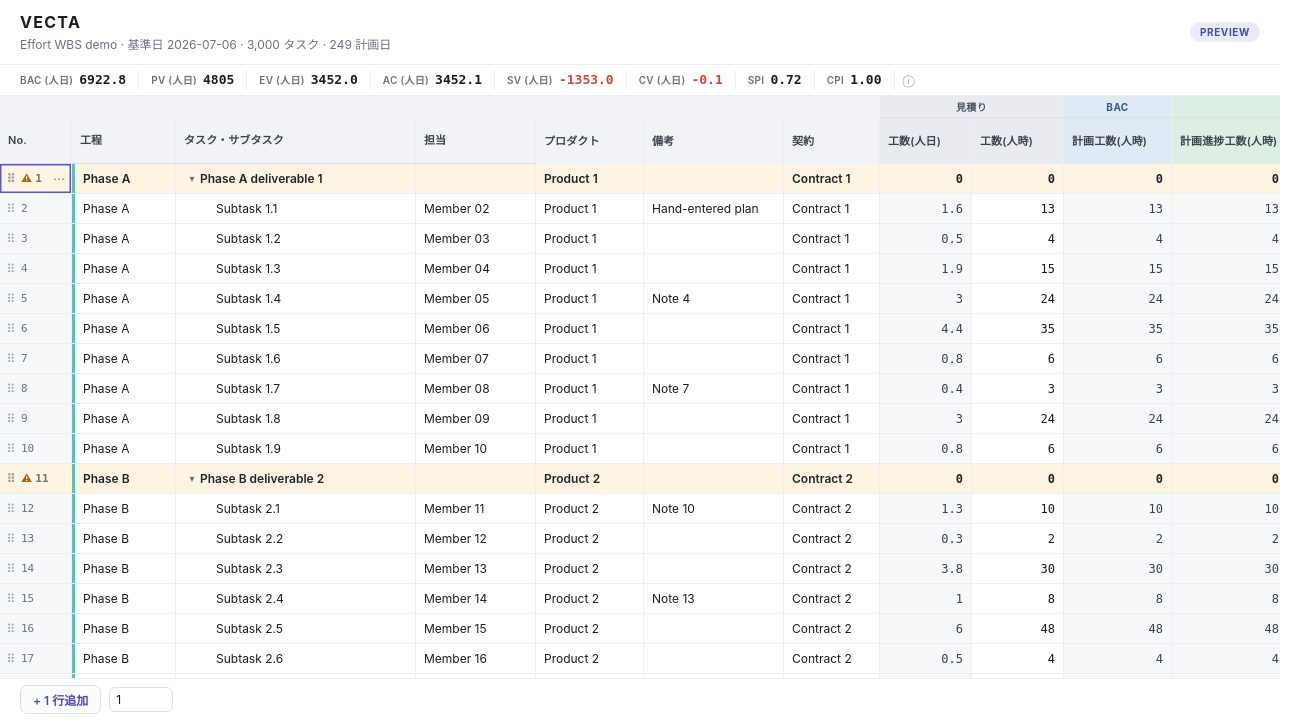
it: App state is never mirrored to localStorage › does not persist a preview edit to localStorage
Expected: the text with test id "save-state" reads "preview", [1200,26,1250,38]
Step 1. Double-click the cell "▾ Phase A deliverable 1" → (296, 178), box [176,164,416,193]
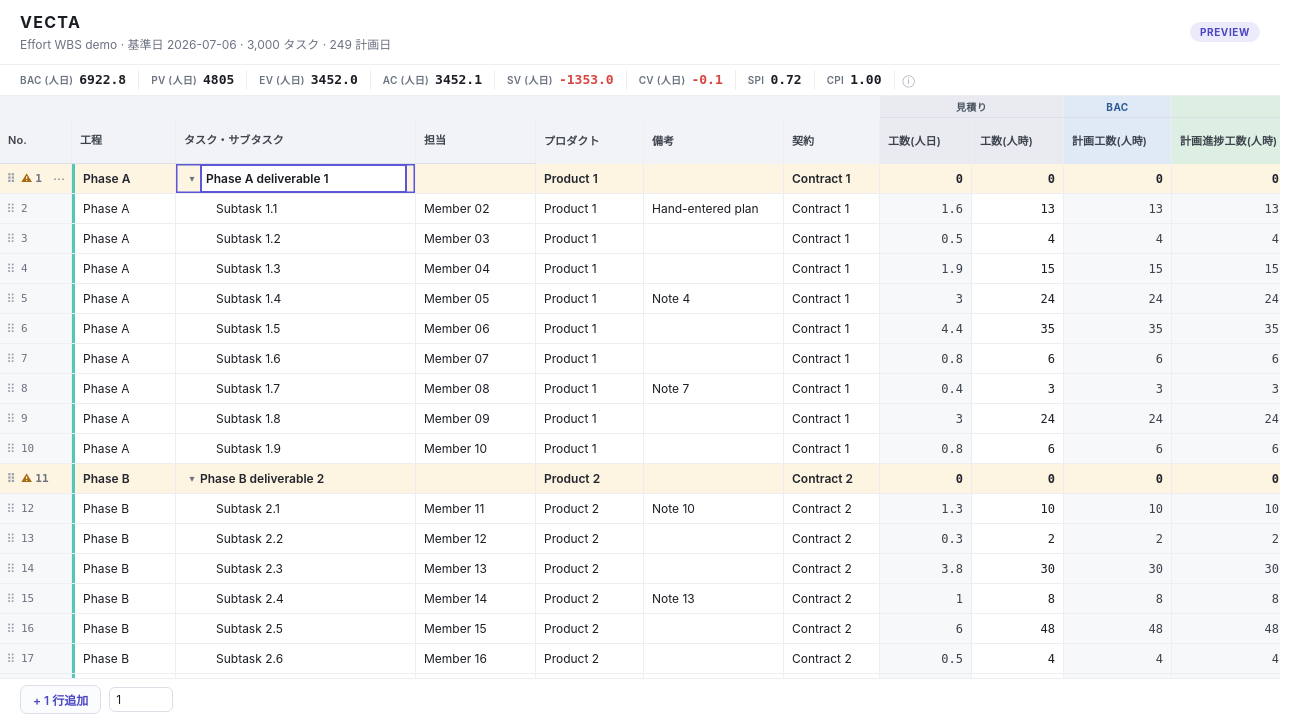
Now the field with class "cell-editor" is shown
Step 2. Replace the text in the field with class "cell-editor" with "Renamed in preview" → (304, 178), box [200,164,407,193]
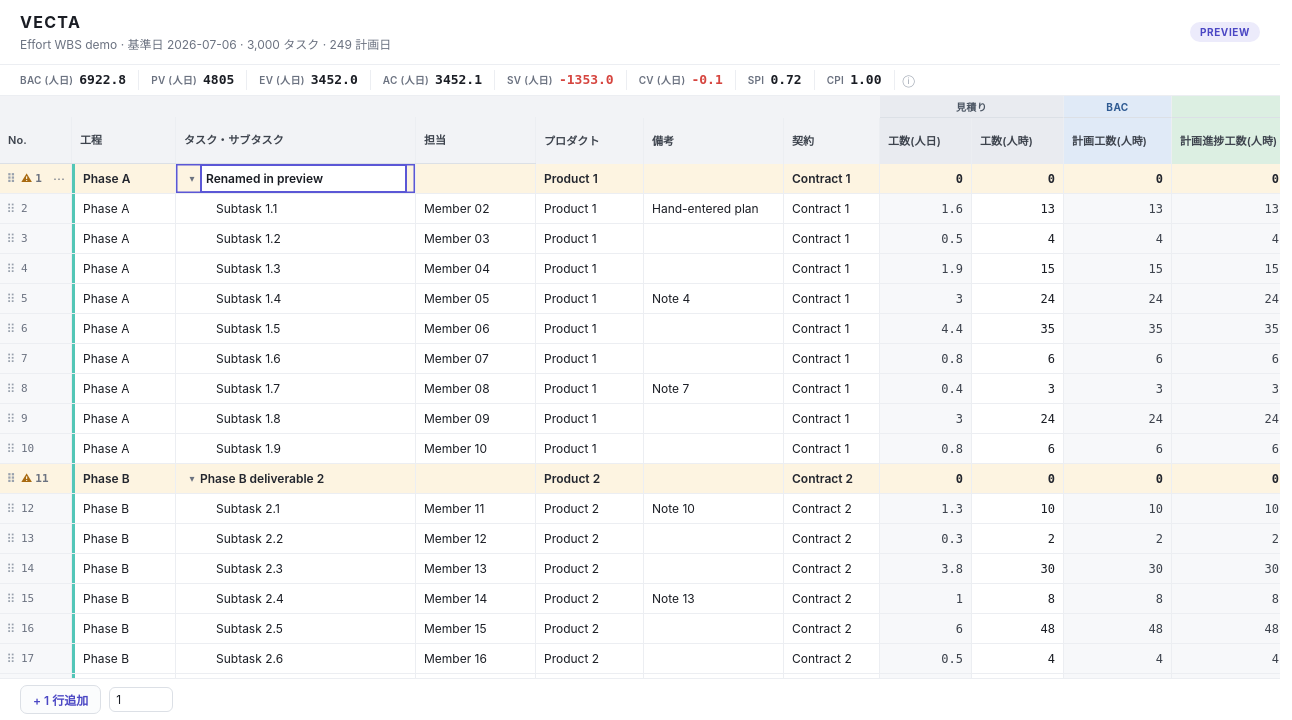
Step 3. Leave the field with class "cell-editor", box [200,164,407,193]
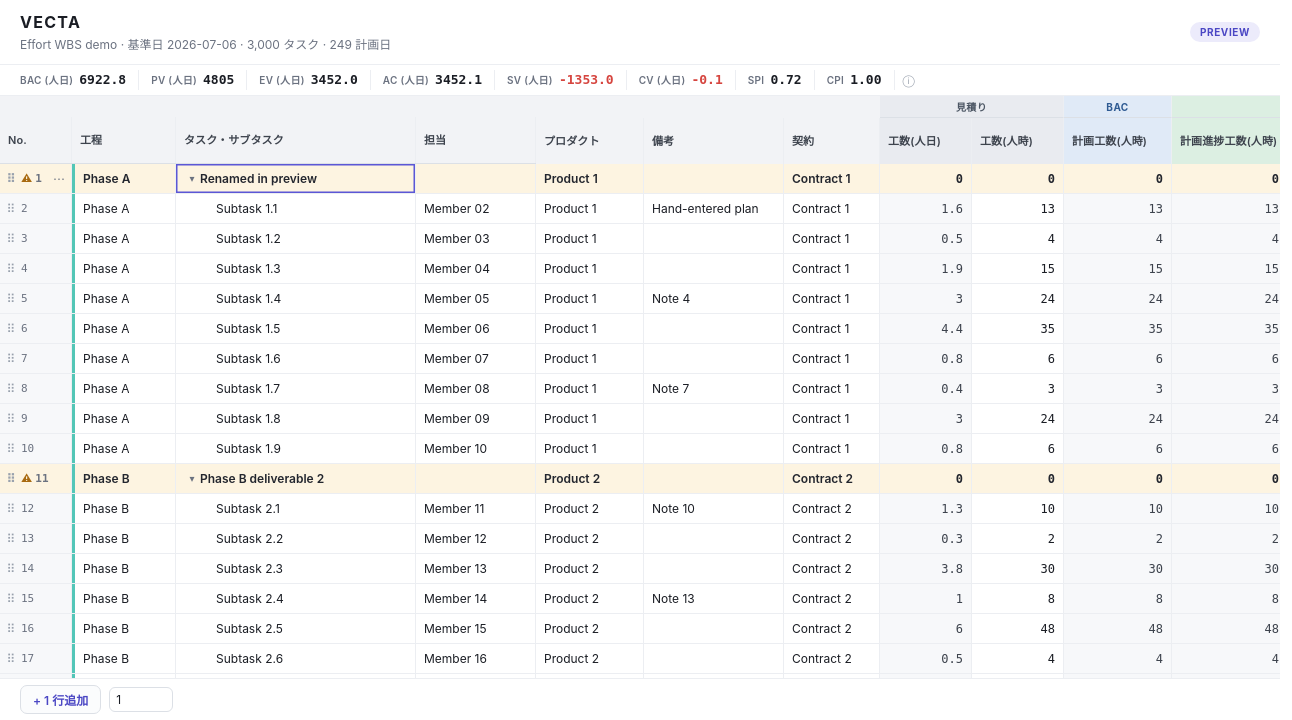
Now the text "Renamed in preview" is shown, box [200,171,317,186]
